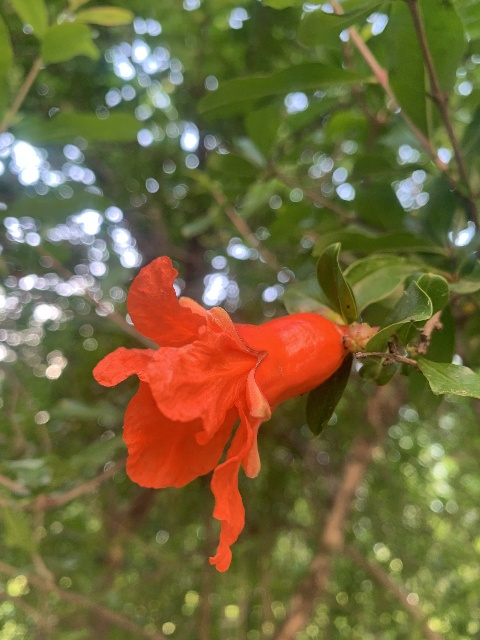bud: (344, 323, 379, 352)
flower: (94, 252, 346, 574)
